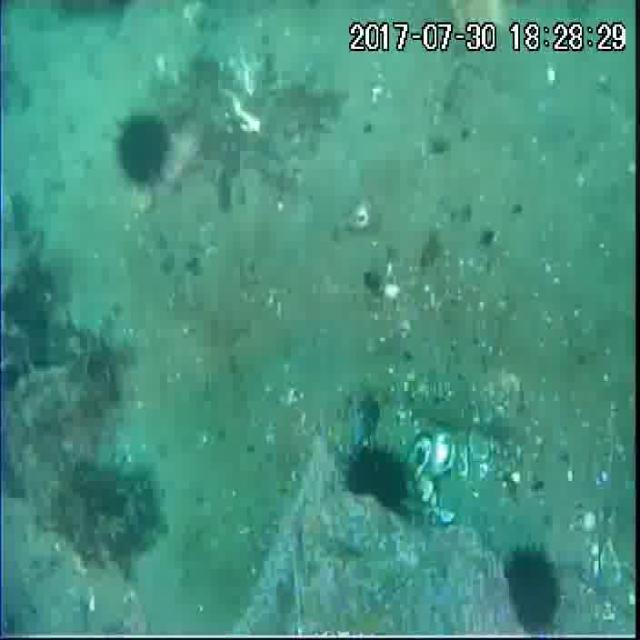echinus: (502, 548, 564, 640), (346, 440, 412, 511), (116, 114, 173, 192)
